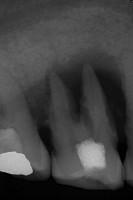Dental Caries: (44, 47, 127, 141)
